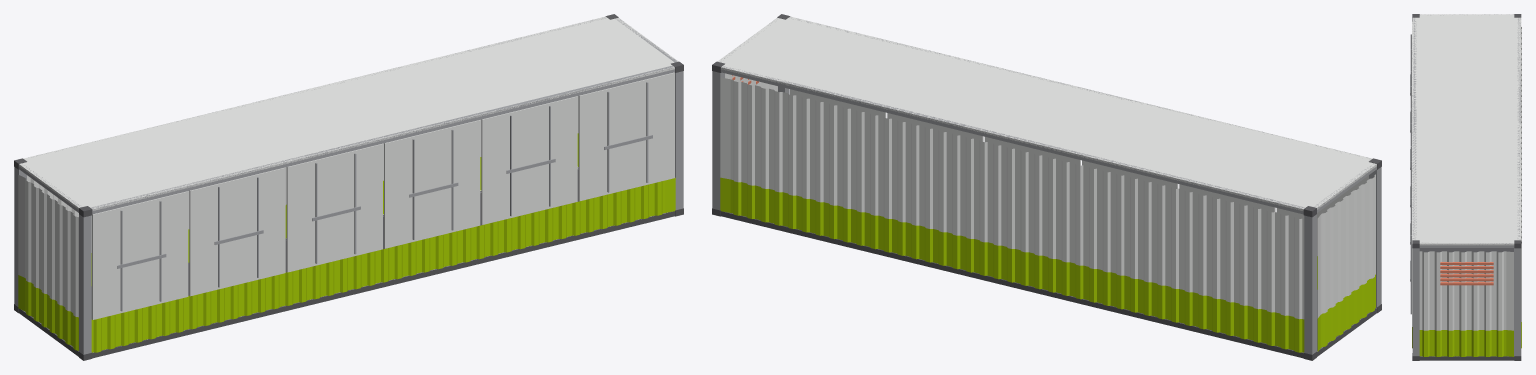
The model's file is container.glb.
The picture shows the model from 3 angles, left to right: view 1: azimuth 30°, elevation 25°; view 2: azimuth 150°, elevation 25°; view 3: azimuth 270°, elevation 25°; orthographic projection. The views are drawn at different scales.
Visible parts, largest first — view 1: Wall_S, Roof, Wall_S_Band, Frame, Wall_W, Door_Hardware, Floor, Wall_W_Band, Wall_N, Corner_Castings; view 2: Wall_N, Roof, Wall_N_Band, Frame, Wall_W, Floor, Wall_S, Wall_W_Band, Corner_Castings; view 3: Roof, Wall_E, Frame, Wall_E_Band, Exhaust_Louver, Floor, Door_Hardware, Wall_S, Wall_N, Corner_Castings.
Boxes of the visible parts, bbox=[...] form: Wall_S: bbox=[92, 72, 674, 319]; Roof: bbox=[19, 16, 678, 210]; Wall_S_Band: bbox=[91, 177, 675, 352]; Frame: bbox=[14, 17, 683, 354]; Wall_W: bbox=[18, 175, 78, 317]; Door_Hardware: bbox=[117, 82, 652, 311]; Floor: bbox=[19, 167, 674, 358]; Wall_W_Band: bbox=[18, 275, 78, 350]; Wall_N: bbox=[27, 96, 578, 252]; Corner_Castings: bbox=[14, 14, 683, 360]; Wall_N: bbox=[720, 77, 1304, 319]; Roof: bbox=[717, 16, 1376, 210]; Wall_N_Band: bbox=[720, 177, 1304, 352]; Frame: bbox=[712, 17, 1381, 354]; Wall_W: bbox=[1317, 174, 1375, 318]; Floor: bbox=[721, 211, 1376, 358]; Wall_S: bbox=[790, 89, 1368, 255]; Wall_W_Band: bbox=[1317, 274, 1375, 351]; Corner_Castings: bbox=[712, 14, 1381, 360]; Roof: bbox=[1412, 14, 1521, 245]; Wall_E: bbox=[1419, 251, 1513, 330]; Frame: bbox=[1412, 14, 1521, 356]; Wall_E_Band: bbox=[1419, 330, 1513, 356]; Exhaust_Louver: bbox=[1440, 262, 1493, 285]; Floor: bbox=[1419, 248, 1514, 360]; Door_Hardware: bbox=[1410, 34, 1411, 314]; Wall_S: bbox=[1412, 21, 1412, 326]; Wall_N: bbox=[1521, 27, 1521, 321]; Corner_Castings: bbox=[1412, 14, 1521, 360].
Bounding box in the file's own units: 12.27 × 2.91 × 2.51.
